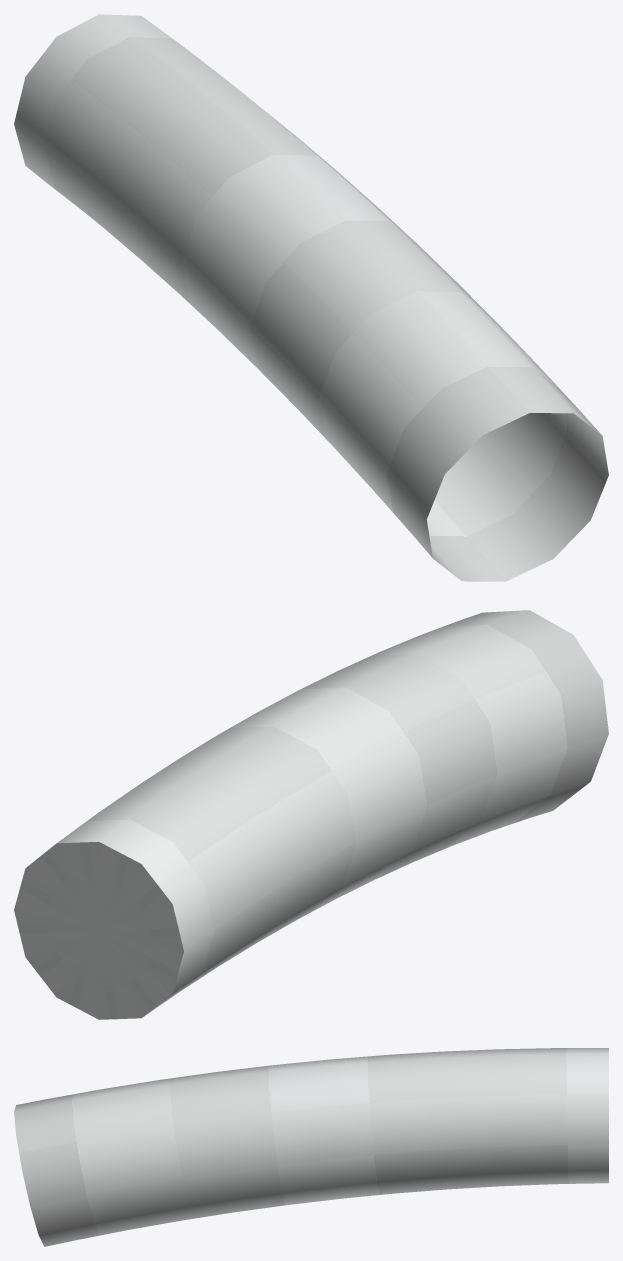
The model's file is luminairearm_caltrans8ft_c4.obj.
3 renders of one model, top to bottom at view 1: azimuth 30°, elevation 25°; view 2: azimuth 150°, elevation 25°; view 3: azimuth 270°, elevation 25°, orthographic. The views are drawn at different scales.
Visible parts, largest first — view 1: luminairearm_caltrans8ft_c4; view 2: luminairearm_caltrans8ft_c4; view 3: luminairearm_caltrans8ft_c4.
Boxes of the visible parts, box(x1,y1,x2,y2) form: luminairearm_caltrans8ft_c4: box(14, 14, 608, 581); luminairearm_caltrans8ft_c4: box(14, 610, 608, 1019); luminairearm_caltrans8ft_c4: box(14, 1048, 608, 1246).
Bounding box in the file's own units: 0.1874 × 0.2648 × 0.7672.
